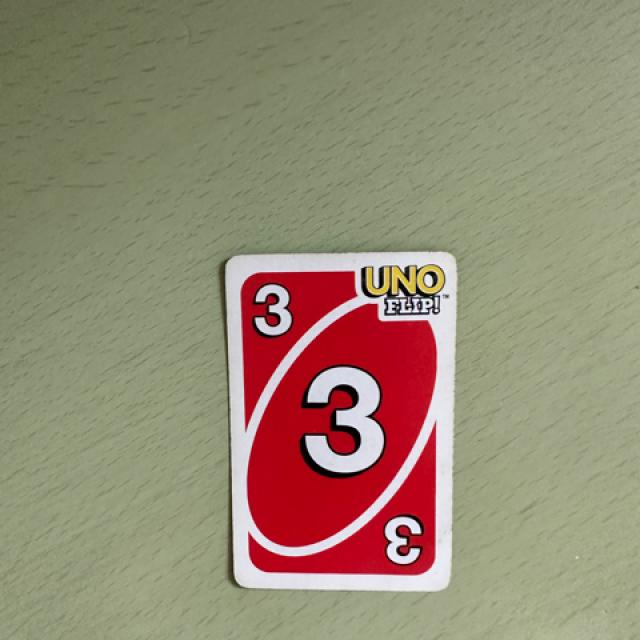lred-3: (236, 263, 307, 353)
